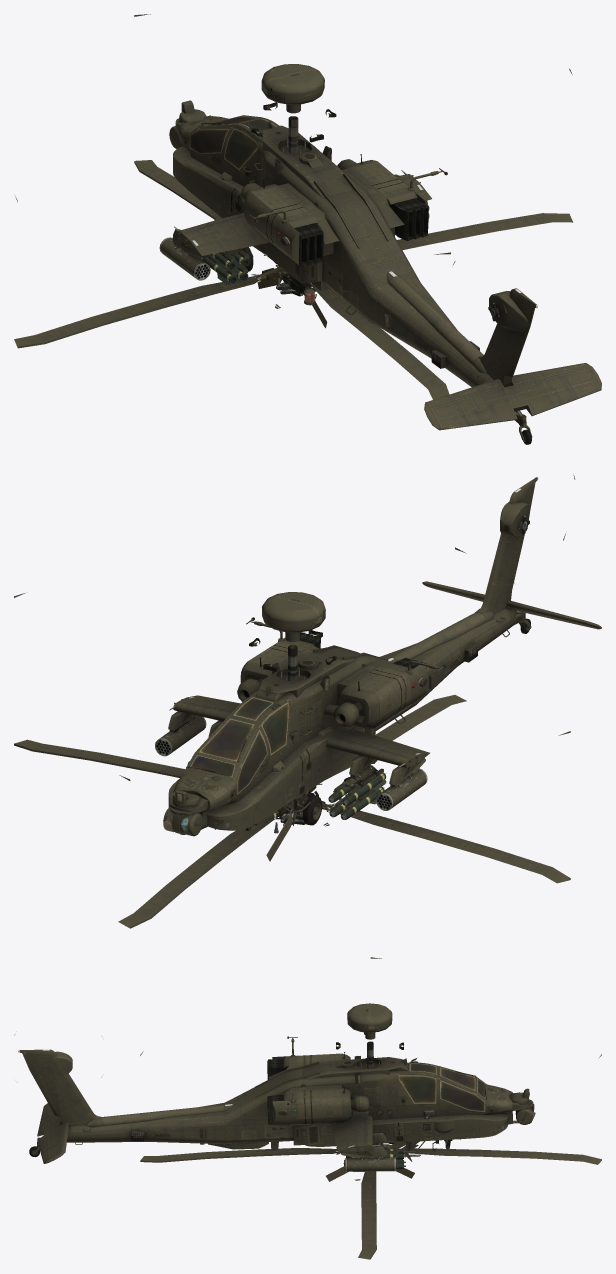
The model's file is heli_warden.glb.
3 renders of one model, top to bottom at view 1: azimuth 30°, elevation 25°; view 2: azimuth 150°, elevation 25°; view 3: azimuth 270°, elevation 25°, orthographic. The views are drawn at different scales.
Visible parts, largest first — view 1: body, rotor_blades, glass, rotor_hub; view 2: body, rotor_blades, glass; view 3: body, rotor_blades, glass.
Boxes of the visible parts, box(x1,y1,x2,y2) form: body: box(15, 14, 601, 444); rotor_blades: box(14, 160, 573, 399); glass: box(189, 116, 429, 245); rotor_hub: box(251, 254, 315, 308); body: box(14, 475, 601, 836); rotor_blades: box(14, 695, 570, 928); glass: box(190, 678, 427, 794); body: box(14, 957, 601, 1171); rotor_blades: box(140, 1148, 601, 1259); glass: box(278, 1063, 485, 1115).
Size of the model in its own units: 14.54 by 5.93 by 18.55.
Materials: 4 (4 with a texture image).
